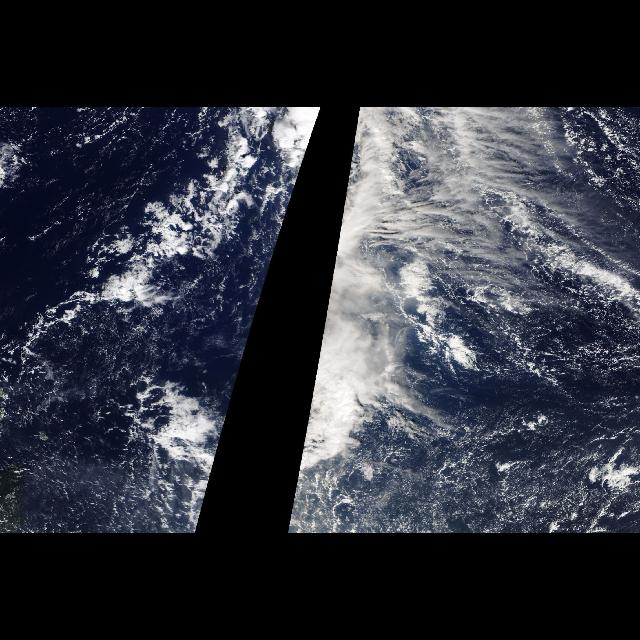Fish: (18, 114, 244, 373), (455, 116, 639, 304)
Gravel: (6, 338, 192, 528)
Sugar: (362, 423, 636, 532)
